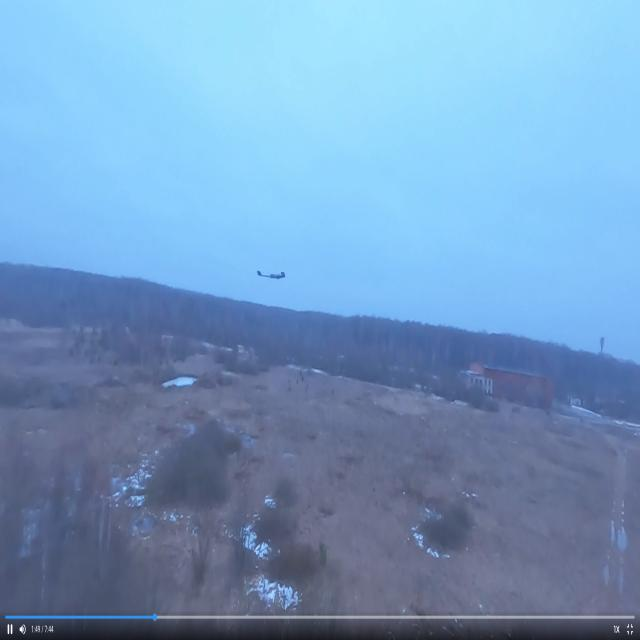planedrone: (256, 263, 285, 284)
